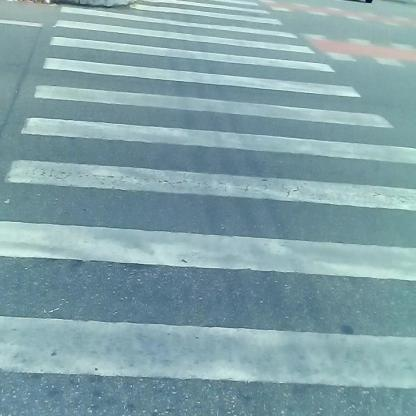crosswalk: (11, 10, 405, 406)
